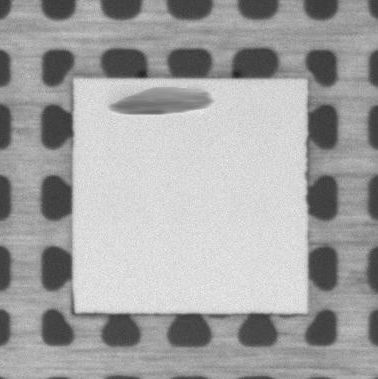DIE_INK: (110, 86, 213, 116)
